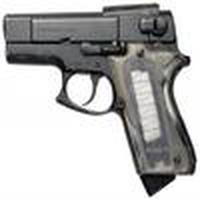gun: (3, 2, 199, 147)
